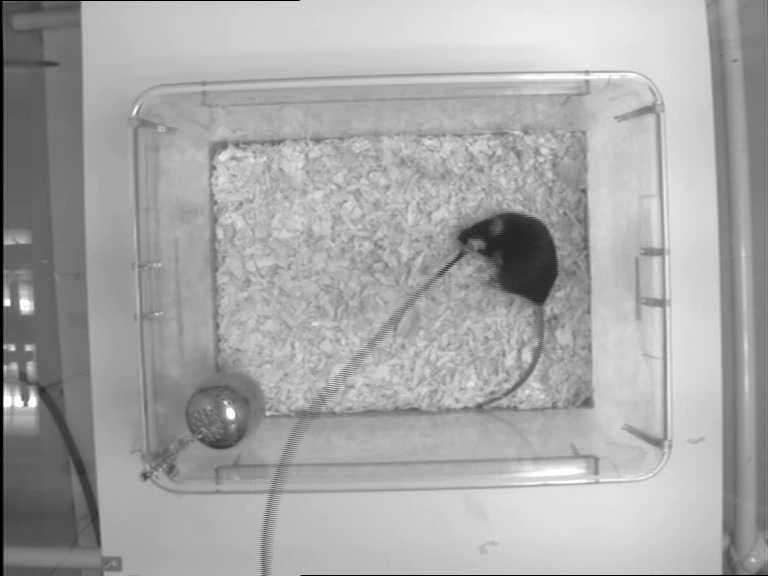mice: (456, 210, 559, 409)
